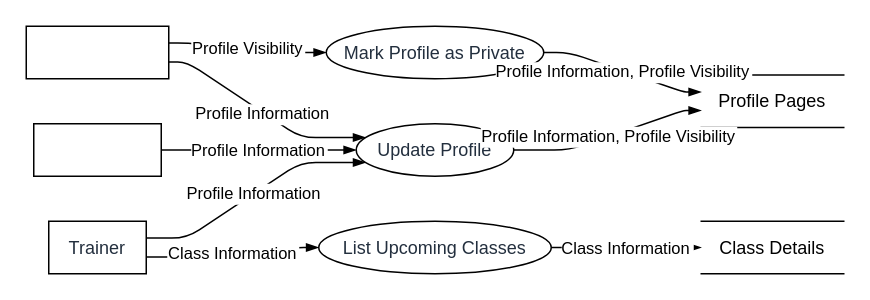
Image size: 870x300. Some labels were removed from this diagram. Each missing label, with the centre of its shape:
"Practitioner" belongs at pixel 96 149.
"Site Member" belongs at pixel 97 52.
